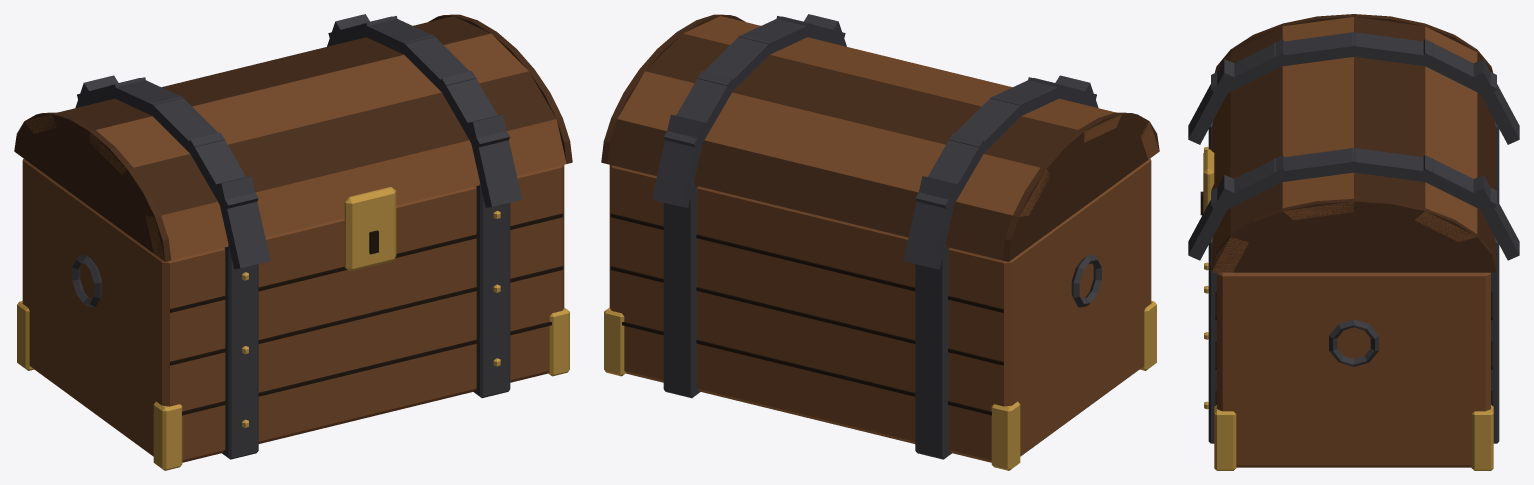
File: chest.obj
3 views of the same model, side by side, from view 1: azimuth 30°, elevation 25°; view 2: azimuth 150°, elevation 25°; view 3: azimuth 270°, elevation 25° (orthographic). The views are drawn at different scales.
Visible parts, largest first — view 1: box, prism.004, prism.003, prism.005, prism.006, prism.002, box.014, box.007, box.025, box.013, box.020, box.012 (+14 smaller); view 2: box, prism.001, prism, prism.002, prism.003, prism.006, box.014, box.007, box.015, box.008, box.016, box.009 (+14 smaller); view 3: box, prism.007, prism.002, prism.003, prism.004, prism.001, box.014, prism, prism.005, box.011, box.018, box.017 (+15 smaller).
Boxes of the visible parts, x1,y1,x2,y2 form: box: (22, 159, 564, 462); prism.004: (122, 71, 556, 216); prism.003: (89, 33, 528, 174); prism.005: (145, 119, 566, 261); prism.006: (14, 112, 171, 261); prism.002: (52, 16, 490, 142); box.014: (473, 183, 510, 398); box.007: (222, 245, 258, 459); box.025: (344, 187, 396, 271); box.013: (215, 176, 270, 269); box.020: (466, 114, 521, 207); box.012: (187, 132, 258, 213); box: (609, 159, 1151, 462); prism.001: (617, 71, 1049, 216); prism: (607, 119, 1028, 261); prism.002: (645, 33, 1084, 173); prism.003: (683, 16, 1121, 142); prism.006: (1002, 112, 1159, 261); box.014: (663, 183, 700, 398); box.007: (915, 245, 951, 459); box.015: (652, 114, 706, 207); box.008: (903, 176, 957, 269); box.016: (664, 71, 735, 148); box.009: (915, 132, 985, 209); box: (1217, 272, 1490, 467); prism.007: (1211, 198, 1496, 272); prism.002: (1354, 17, 1425, 219); prism.003: (1282, 17, 1353, 220); prism.004: (1230, 26, 1292, 242); prism.001: (1415, 26, 1477, 242); box.014: (1208, 237, 1499, 443); prism: (1459, 53, 1496, 272); prism.005: (1211, 53, 1248, 272); box.011: (1274, 32, 1356, 68); box.018: (1274, 147, 1357, 183); box.017: (1350, 147, 1433, 183).
Bounding box in the file's own units: 0.836 × 0.5702 × 0.605.
